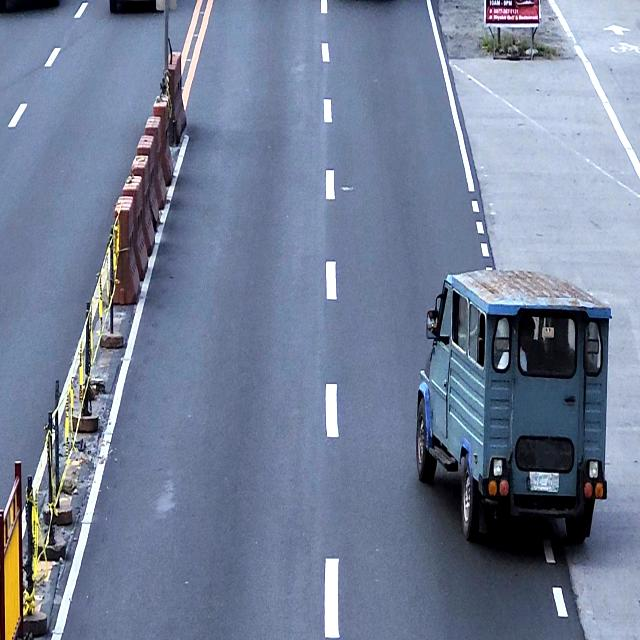Jeep: (415, 266, 612, 545)
License-Plate: (527, 468, 560, 494)
